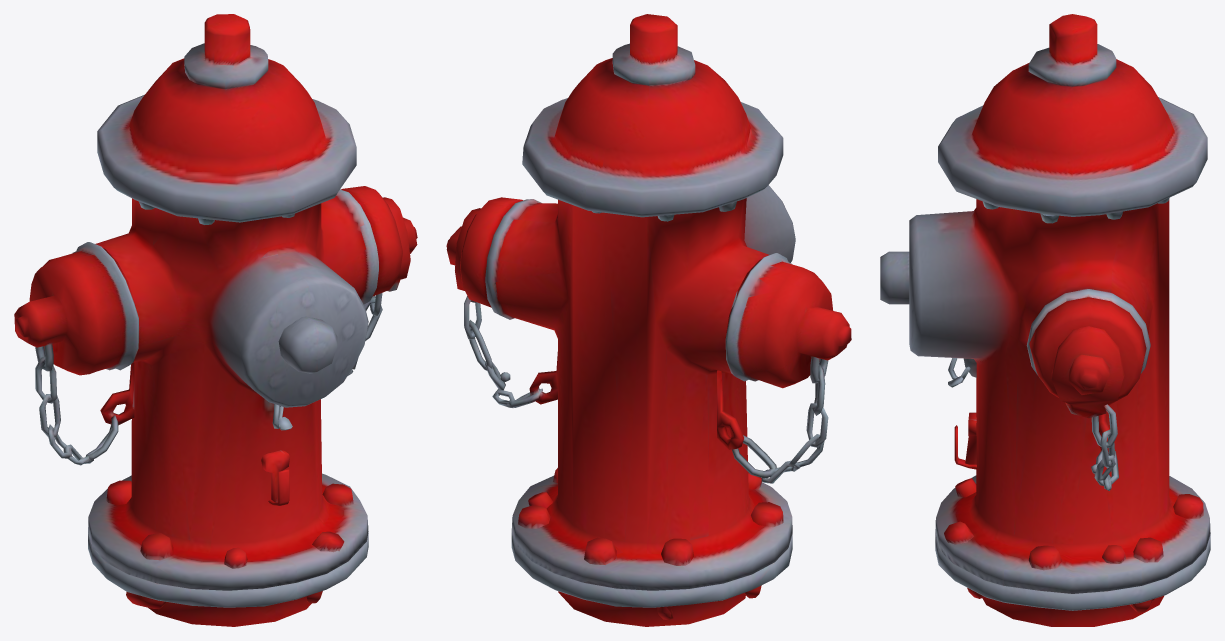
File: Bank_FireHydrant.glb
3 views of the same model, side by side, from view 1: azimuth 30°, elevation 25°; view 2: azimuth 150°, elevation 25°; view 3: azimuth 270°, elevation 25° (orthographic).
Parts seen in each view (by area): view 1: tripo_node_ada49ac6-6e7e-413f-a888-0c3d7cf8ba71; view 2: tripo_node_ada49ac6-6e7e-413f-a888-0c3d7cf8ba71; view 3: tripo_node_ada49ac6-6e7e-413f-a888-0c3d7cf8ba71.
Boxes of the visible parts, x1,y1,x2,y2 form: tripo_node_ada49ac6-6e7e-413f-a888-0c3d7cf8ba71: (14, 14, 417, 626); tripo_node_ada49ac6-6e7e-413f-a888-0c3d7cf8ba71: (446, 14, 851, 626); tripo_node_ada49ac6-6e7e-413f-a888-0c3d7cf8ba71: (880, 14, 1210, 626).
Size of the model in its own units: 0.7303 by 1 by 0.5291.
1 material, 1 textured.
